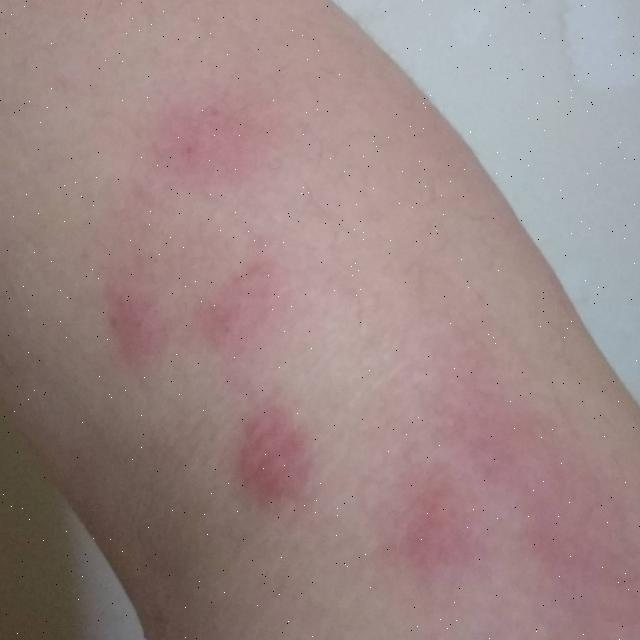kan emici bocekler: (127, 44, 267, 226), (356, 470, 487, 598), (246, 385, 340, 514), (193, 262, 298, 358), (96, 277, 168, 389)
